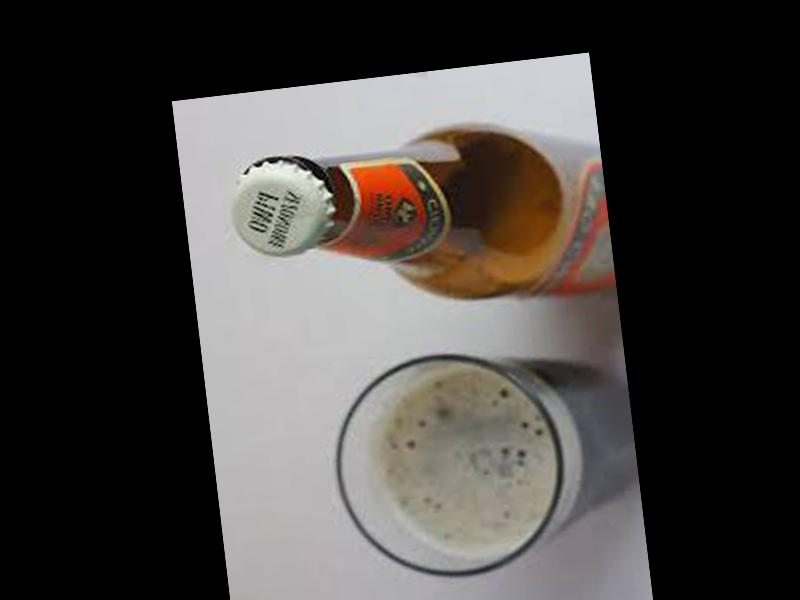Beer: (224, 109, 617, 336)
